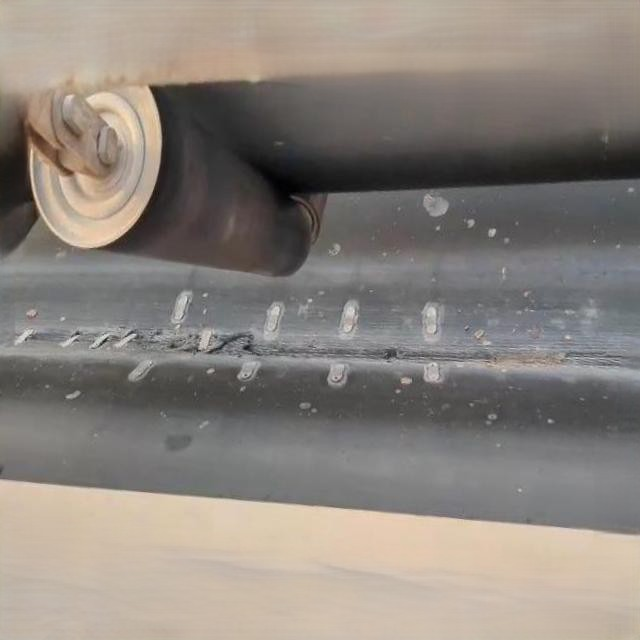Tear: (199, 327, 274, 359)
Wear: (0, 326, 640, 370)
